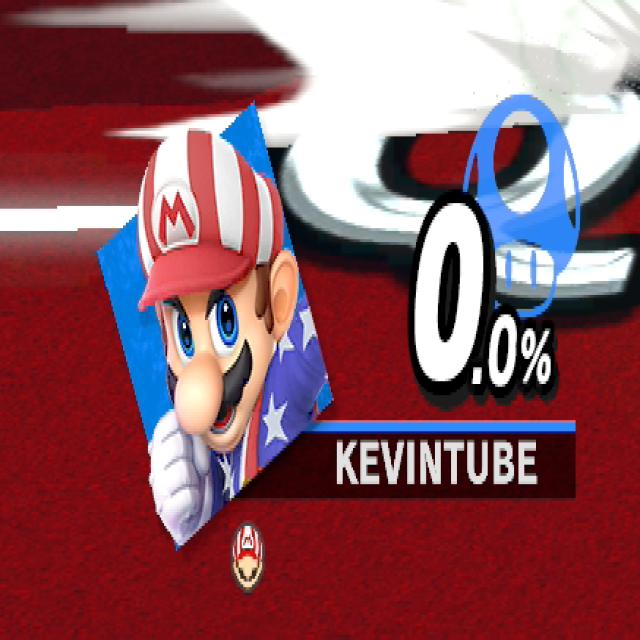mario: (134, 108, 320, 544)
